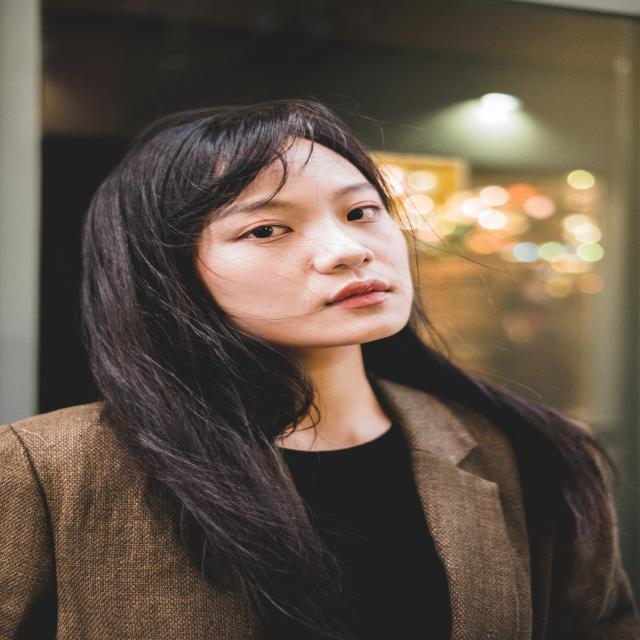adult: (0, 97, 607, 640)
